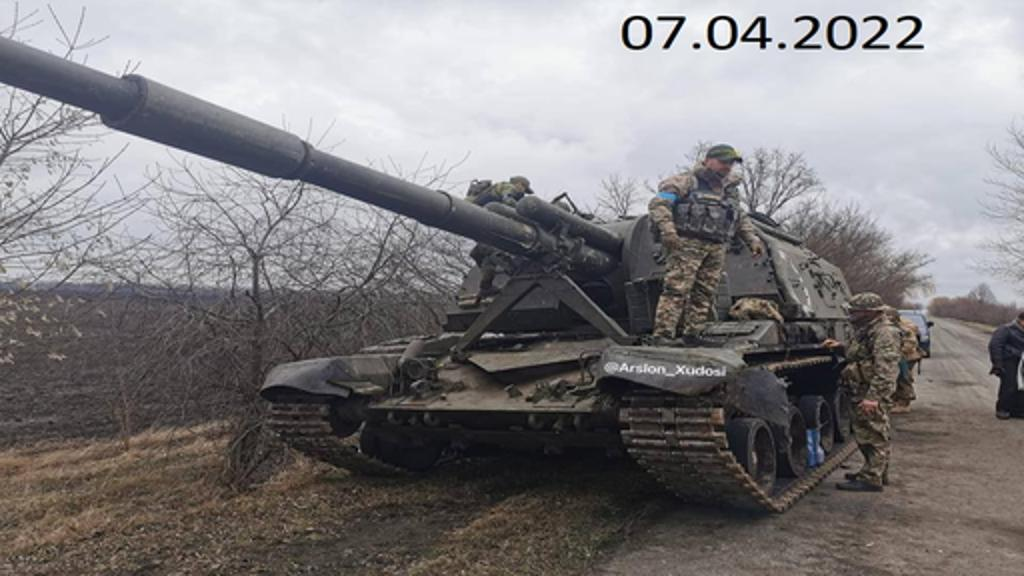ART: (0, 34, 926, 512)
